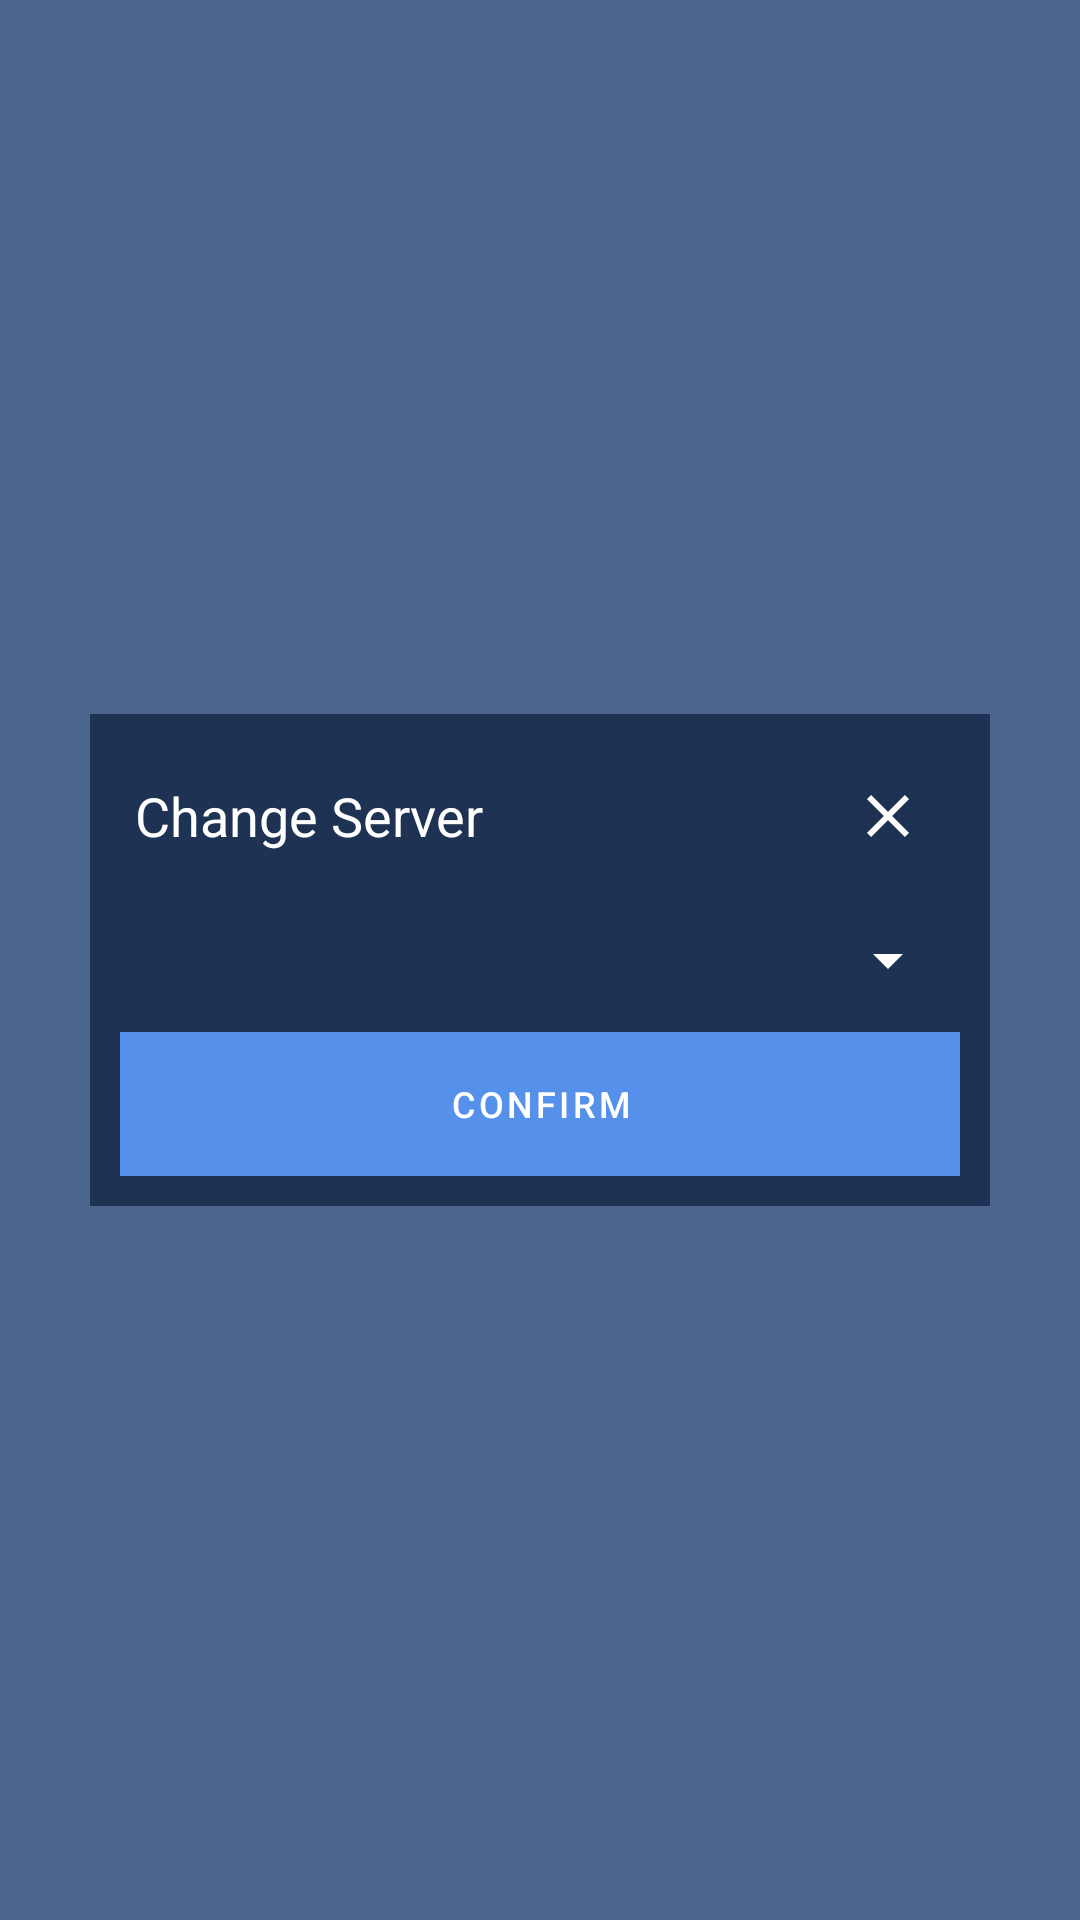

Named icons in this screenshot (1080 x 1920) and their bounding boxes, (x1, y1, x2, y2):
Close Popup: (867, 795, 909, 837)
